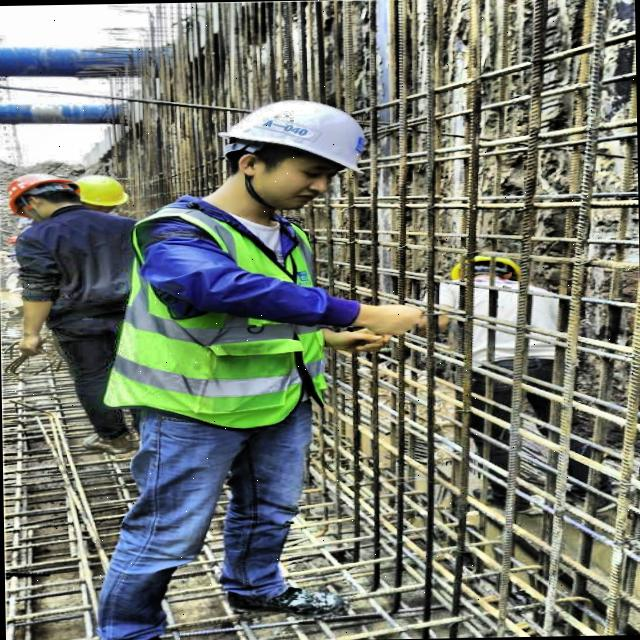helmet: (205, 88, 384, 210), (0, 168, 83, 224), (442, 250, 526, 290), (66, 171, 131, 215)
